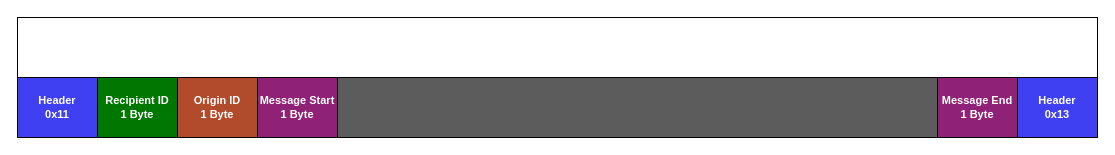
This 1115x155 diagram has some shape labels left out. The centre of each missing label's shape, as x and y in pixels:
"22 Byte Message Structure" goes at pixel 557 47.
"Data 16 Bytes" goes at pixel 637 107.
